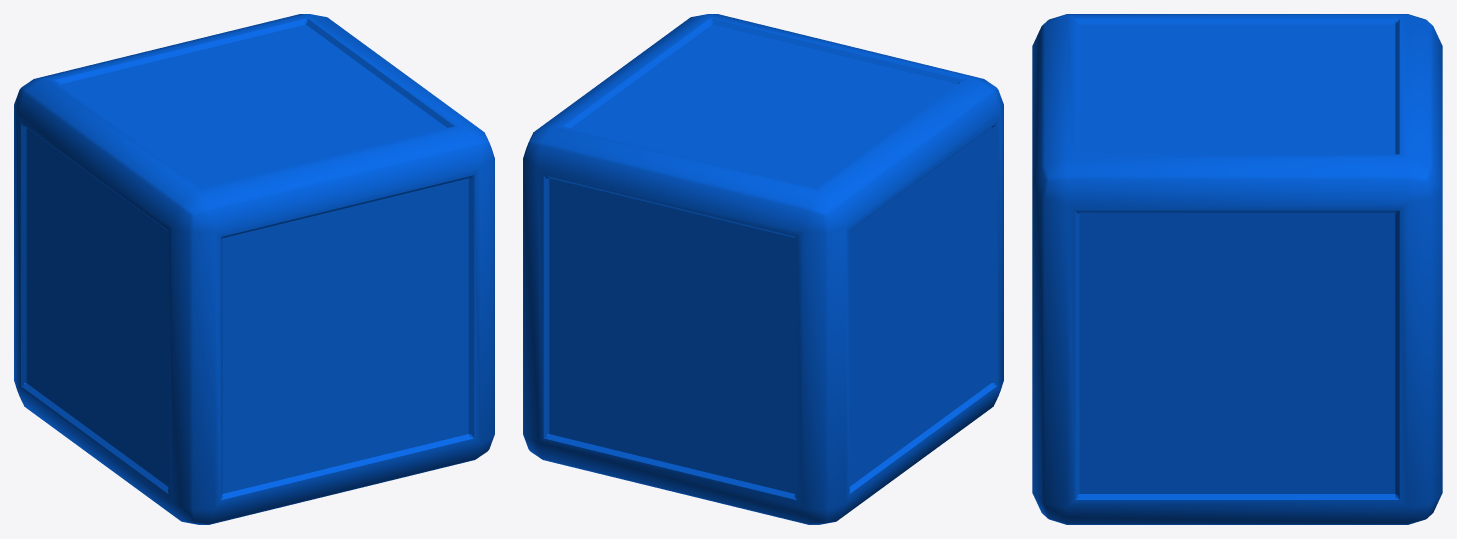
The model's file is SM_Castle_Box1.fbx.
The picture shows the model from 3 angles, left to right: view 1: azimuth 30°, elevation 25°; view 2: azimuth 150°, elevation 25°; view 3: azimuth 270°, elevation 25°; orthographic projection. The views are drawn at different scales.
Parts seen in each view (by area): view 1: Box1; view 2: Box1; view 3: Box1.
Part boxes in pixels (x1=…): Box1: x1=14, y1=14, x2=494, y2=524; Box1: x1=523, y1=14, x2=1003, y2=524; Box1: x1=1032, y1=14, x2=1442, y2=524.
Size of the model in its own units: 185 by 184 by 186.
